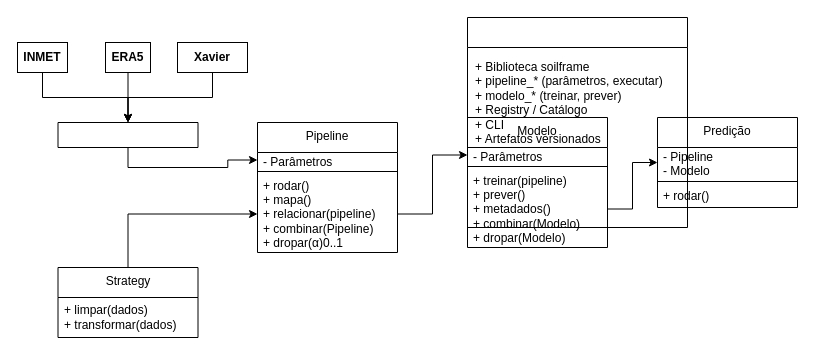
This 815x355 diagram has some shape labels left out. The centre of each missing label's shape, as x and y in pixels:
Fonte de Dados: (x=127, y=135)
SoilFrame Framework: (x=577, y=122)
